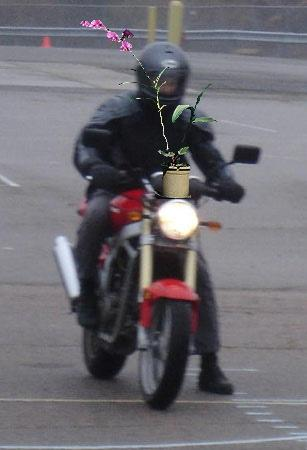tampered: (81, 21, 217, 199)
